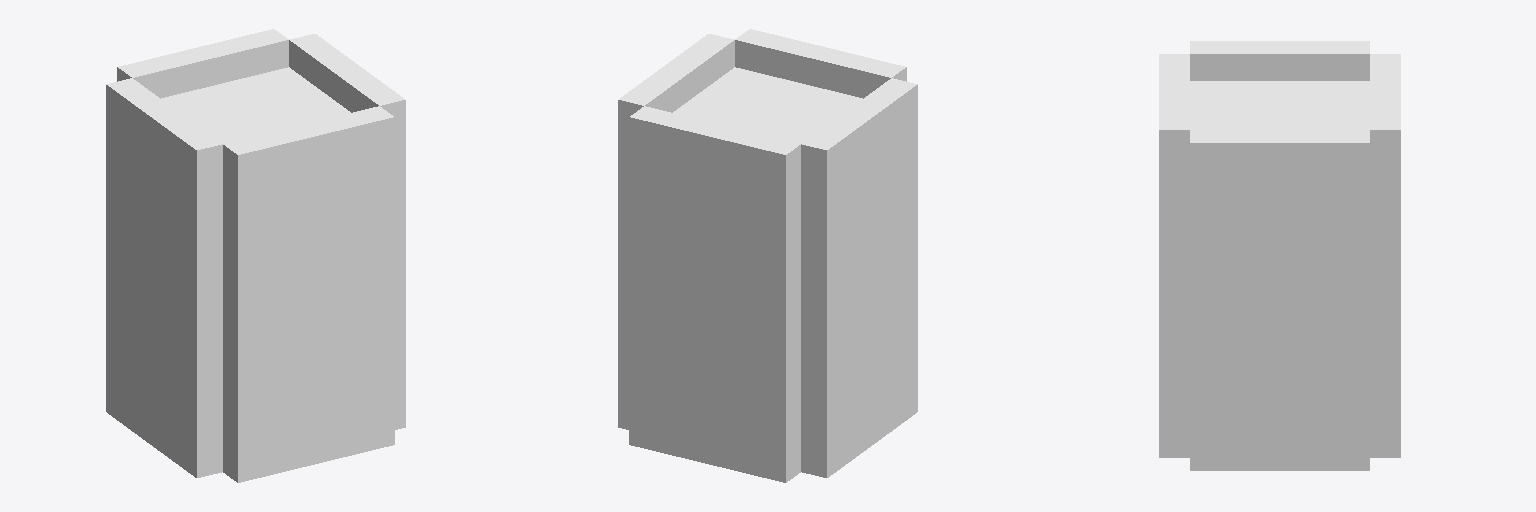
File: bochka2.obj
3 renders of one model, left to right at view 1: azimuth 30°, elevation 25°; view 2: azimuth 150°, elevation 25°; view 3: azimuth 270°, elevation 25°, orthographic.
Parts seen in each view (by area): view 1: object 1; view 2: object 1; view 3: object 1.
Part boxes in pixels (x1,y1,x2,y2): object 1: (106,29,405,482); object 1: (618,29,917,482); object 1: (1159,41,1400,470).
Bounding box in the file's own units: 0.8 × 1.2 × 0.8.